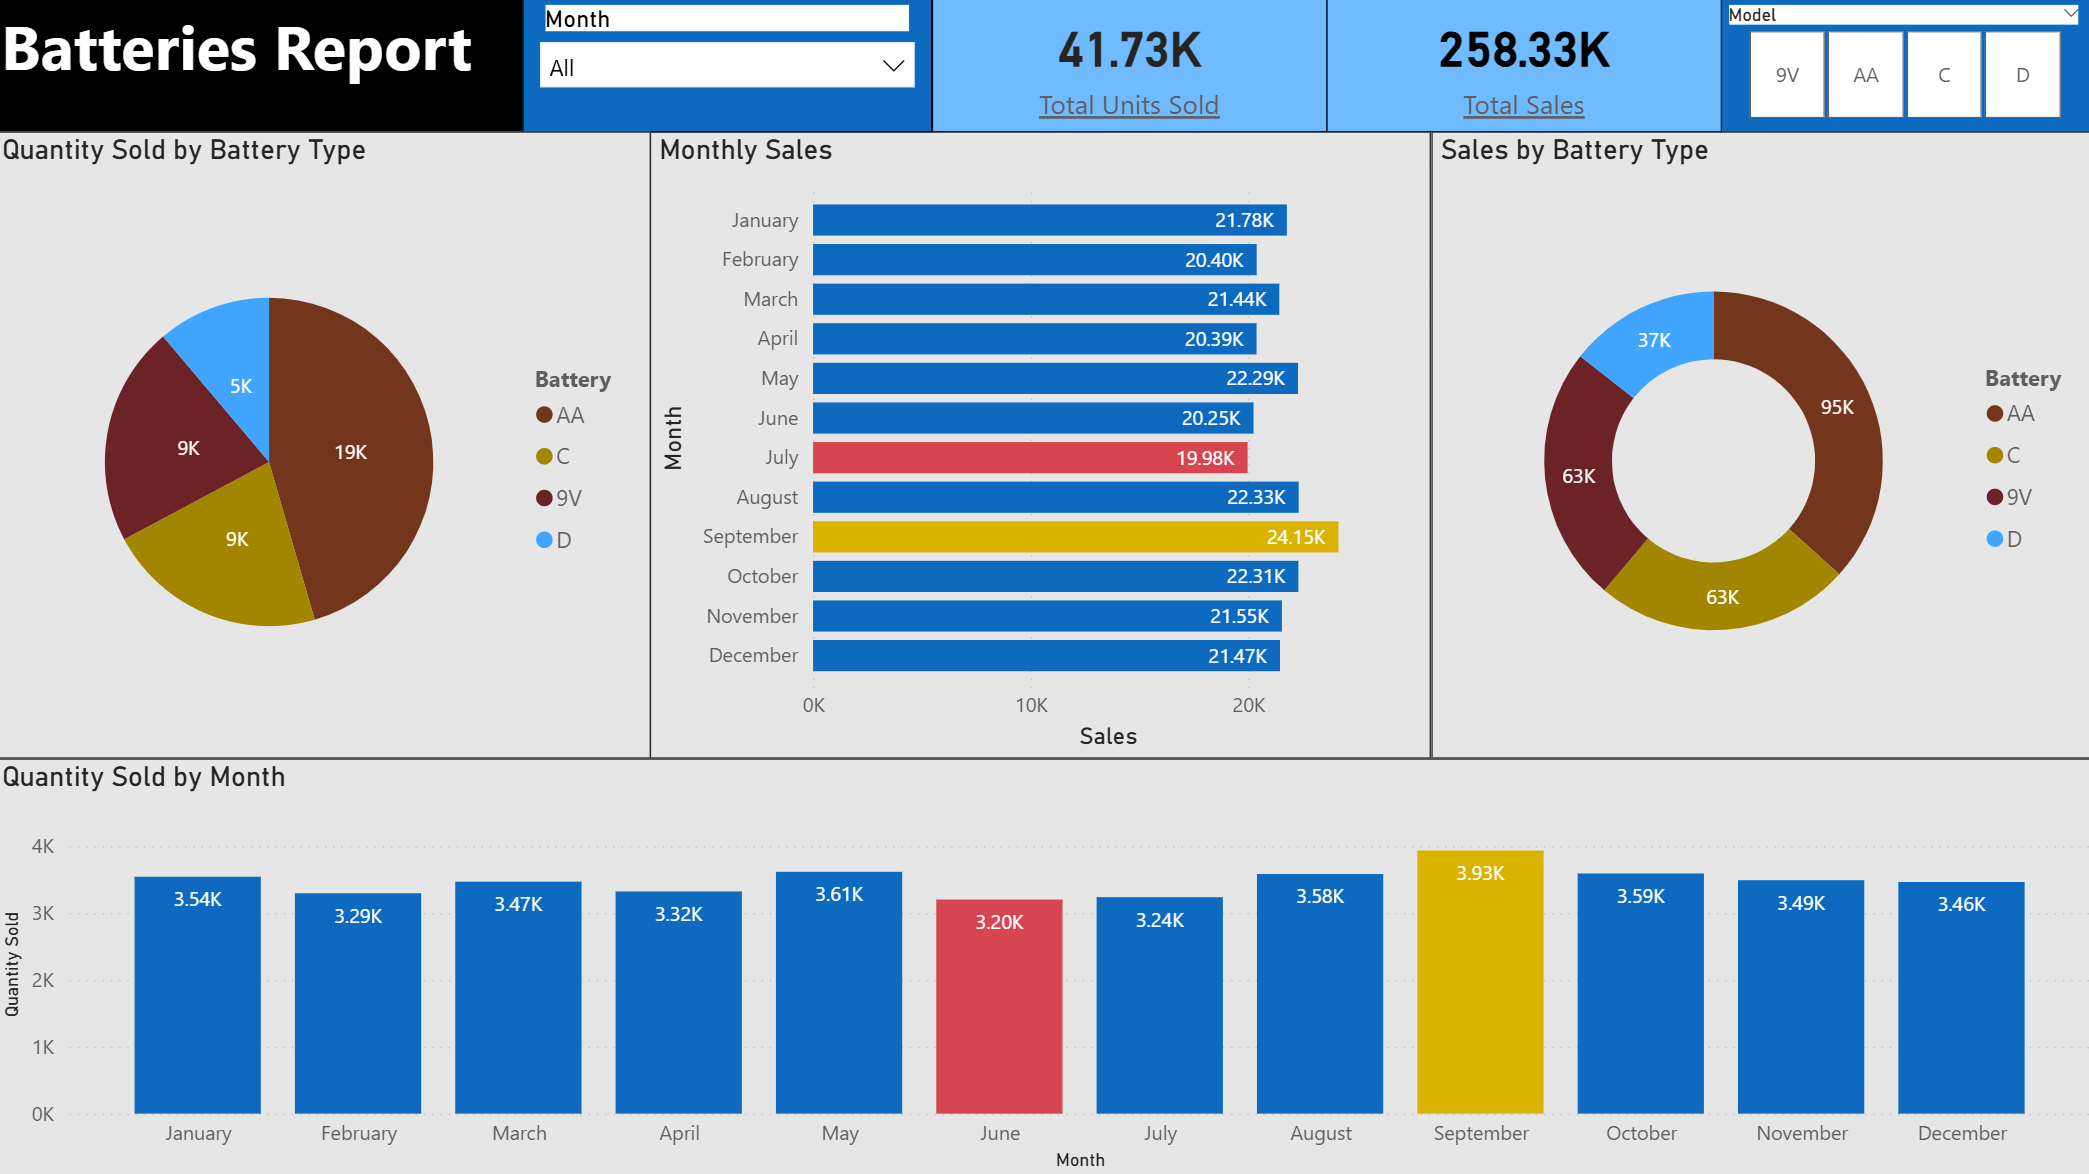

What the dashboard file says about the page in this screenshot:
{"tool":"powerbi","page":{"name":"Main","canvas":[1280,720],"ordinal":0},"visuals":[{"type":"textbox","box":[0,0,321.7,83.3],"z":500},{"type":"clusteredBarChart","title":"Monthly Sales","fields":{"Y":["Sum(All.Sales)"],"Category":["All.Date.Variation.Date Hierarchy.Month"]},"box":[399.2,83.3,473.9,380.6],"z":1000},{"type":"clusteredColumnChart","title":"Quantity Sold by Month","fields":{"Category":["All.Date.Variation.Date Hierarchy.Month"],"Y":["Sum(All.Quantity Sold)"]},"box":[0,463.8,1279.5,255.6],"z":1500},{"type":"slicer","fields":{"Values":["All.Date.Variation.Date Hierarchy.Month"]},"box":[321.7,0,248.4,83.3],"z":3000},{"type":"slicer","fields":{"Values":["All.Model"]},"box":[1039.7,0,239.8,83.3],"z":4000},{"type":"donutChart","title":"Sales by Battery Type","fields":{"Category":["All.Model"],"Y":["Sum(All.Sales)"]},"box":[873.1,83.3,406.4,380.6],"z":5000},{"type":"pieChart","title":"Quantity Sold by Battery Type","fields":{"Category":["All.Model"],"Y":["Sum(All.Quantity Sold)"]},"box":[0,83.3,399.2,380.6],"z":6000},{"type":"card","fields":{"Values":["All.Total Sales"]},"box":[809.9,0,239.8,83.3],"z":7000},{"type":"card","fields":{"Values":["All.Total Units Sold"]},"box":[570.1,0,239.8,83.3],"z":8000}]}

Visuals, with their boxes in screenshot pixels (x1, y1, x2, y2), scaled from the page's 1280x720 canvas onto the 2089x1174 screenshot:
textbox: 0/0/525/136
"Monthly Sales" clusteredBarChart: 652/136/1425/756
"Quantity Sold by Month" clusteredColumnChart: 0/756/2088/1173
slicer - All.Date.Variation.Date Hierarchy.Month: 525/0/930/136
slicer - All.Model: 1697/0/2088/136
"Sales by Battery Type" donutChart: 1425/136/2088/756
"Quantity Sold by Battery Type" pieChart: 0/136/652/756
card - All.Total Sales: 1322/0/1713/136
card - All.Total Units Sold: 930/0/1322/136
